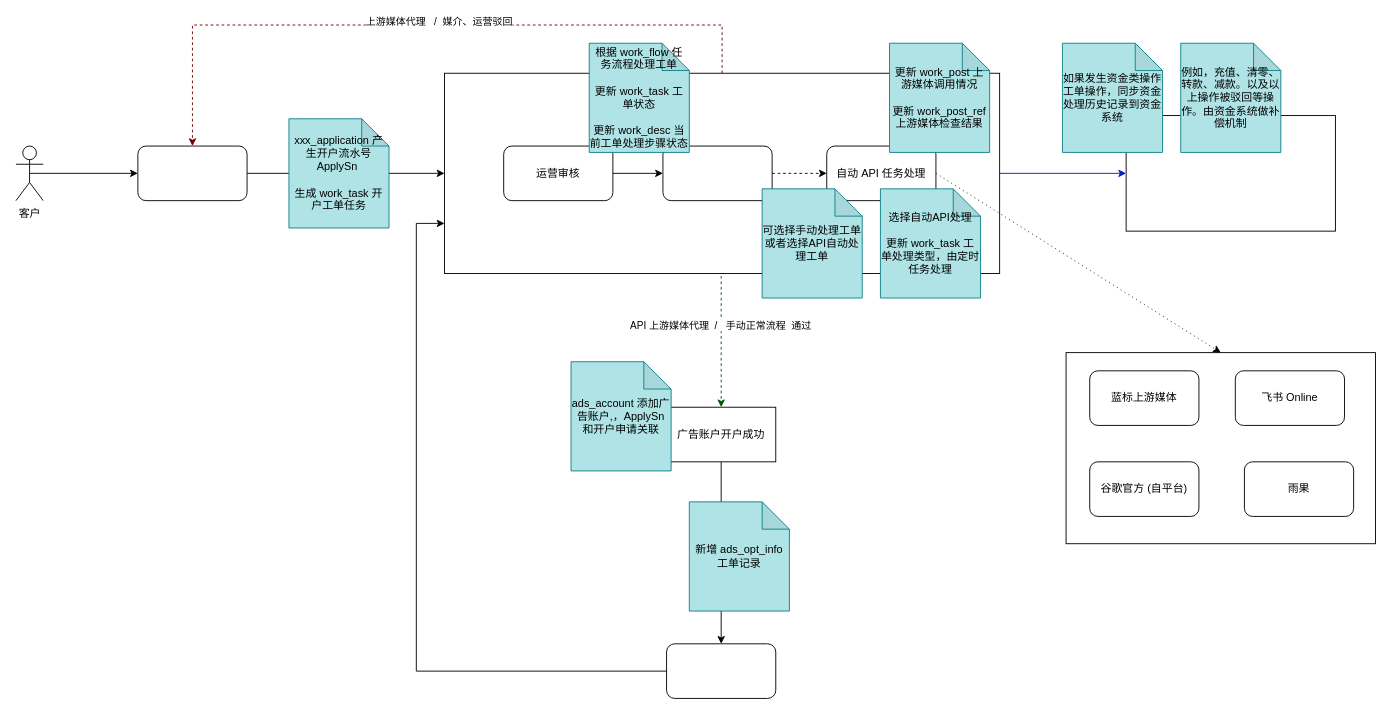
The diagram is 1391 pixels wide and 714 high, and some of its shapes have lost their labels. Each missing label, with the centre of its shape:
媒介审核: (717,173)
申请开户: (192,173)
申请操作工单: (721,670)
自平台资金管理系统: (1230,173)
